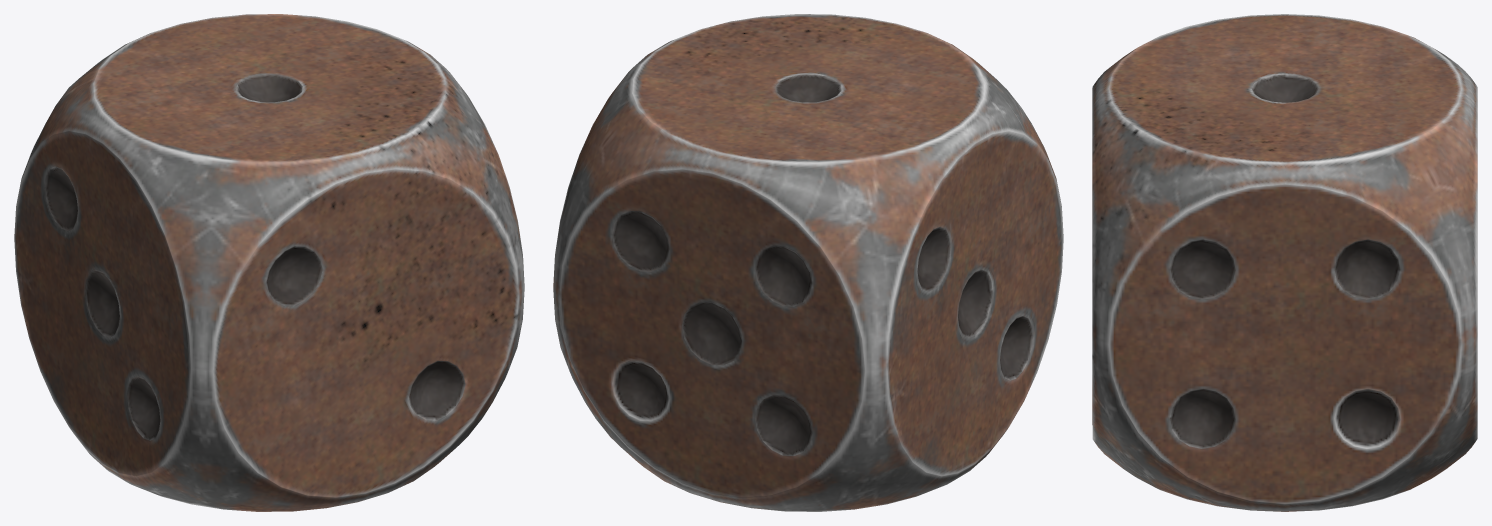
3 views of the same model, side by side, from view 1: azimuth 30°, elevation 25°; view 2: azimuth 150°, elevation 25°; view 3: azimuth 270°, elevation 25° (orthographic).
Visible parts, largest first — view 1: Mesh_0; view 2: Mesh_0; view 3: Mesh_0.
Boxes of the visible parts, bbox=[...] form: Mesh_0: bbox=[14, 14, 524, 511]; Mesh_0: bbox=[553, 14, 1063, 511]; Mesh_0: bbox=[1092, 14, 1477, 511].
Bounding box in the file's own units: 3 × 3 × 3.
1 material, 1 textured.
